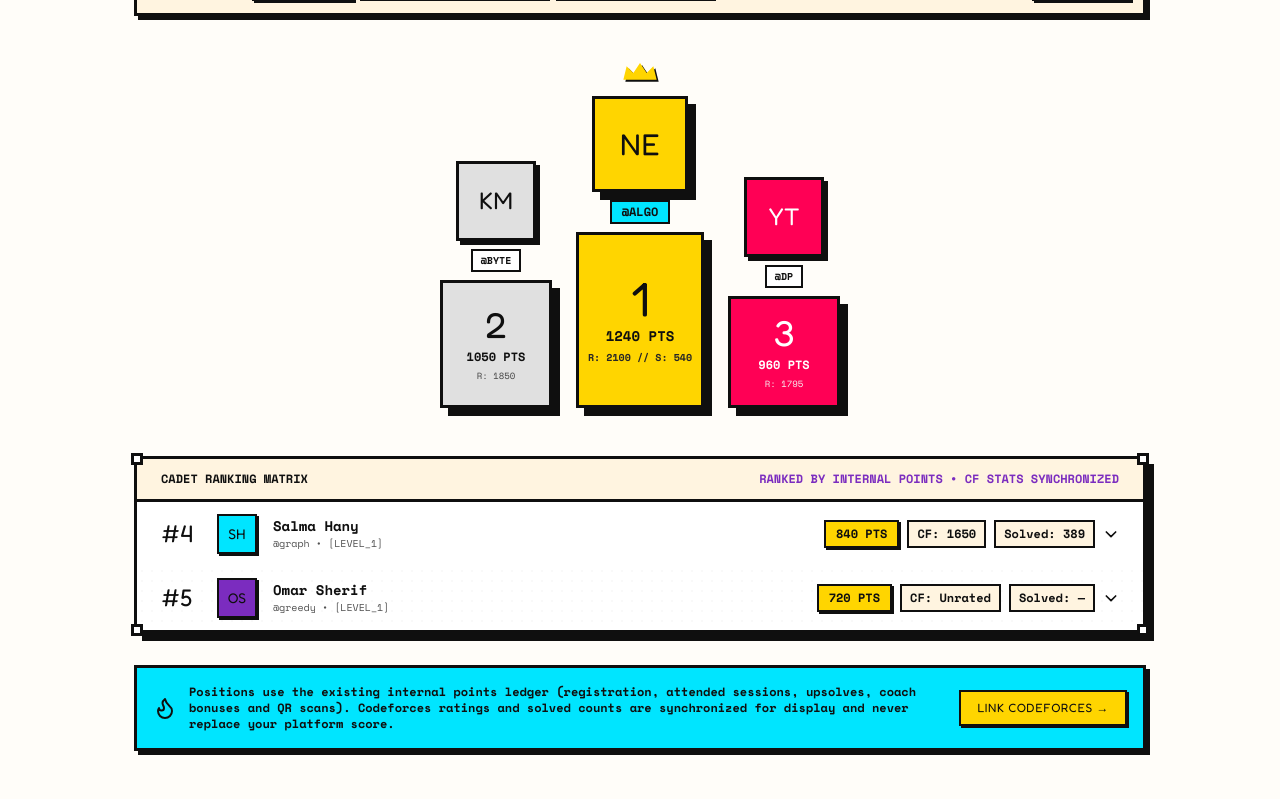
Test: LeaderboardPage › reveals the attendance, QR and Codeforces details when a row expands
The image size is (1280, 799).
(page scrolled)
Expected: the text "Sessions Attended: 2" is not shown
Click the button with class "rank-row" that starts with "Salma Hany".
click(237, 534)  # box [137,502,1143,566]
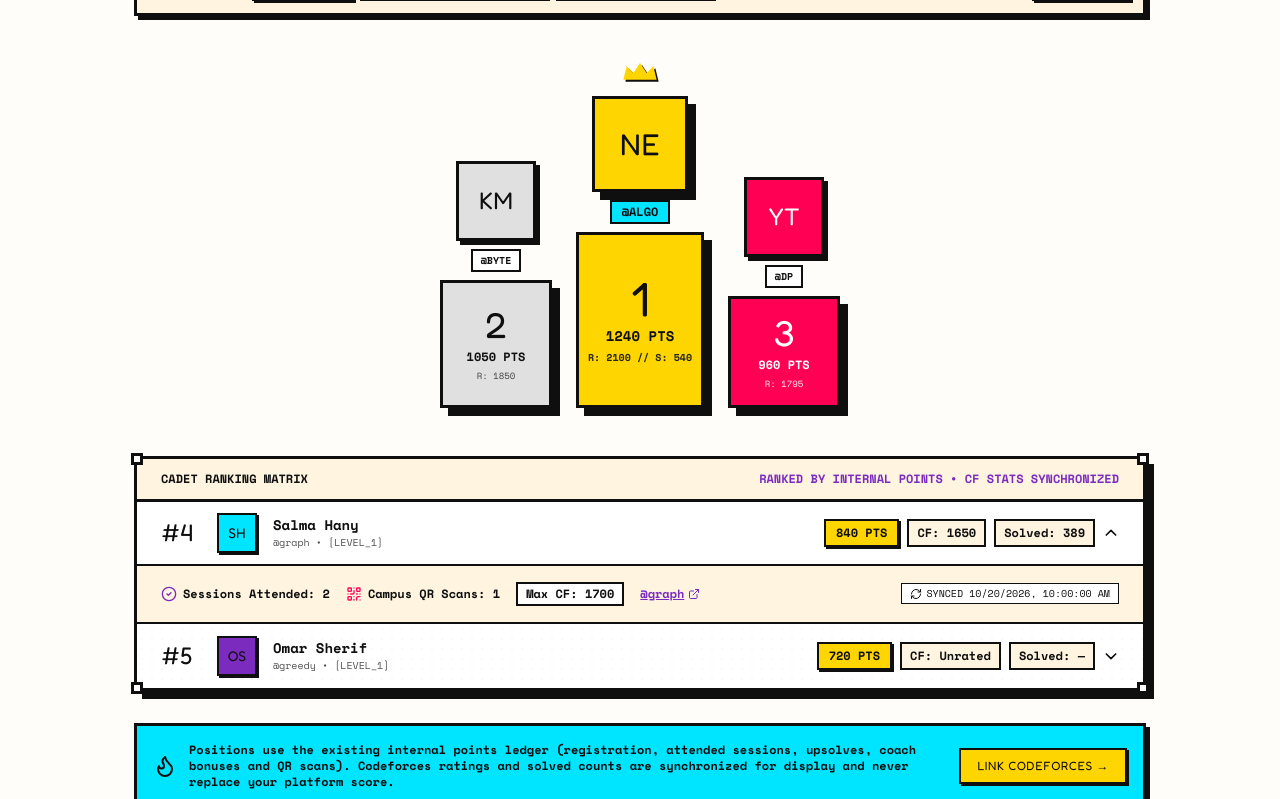
Expected: the text "Sessions Attended: 2" is shown, [183,586,330,602]
Expected: the text "Campus QR Scans: 1" is shown, [368,586,500,602]
Expected: the link "@graph" is shown, [640,586,700,602]
